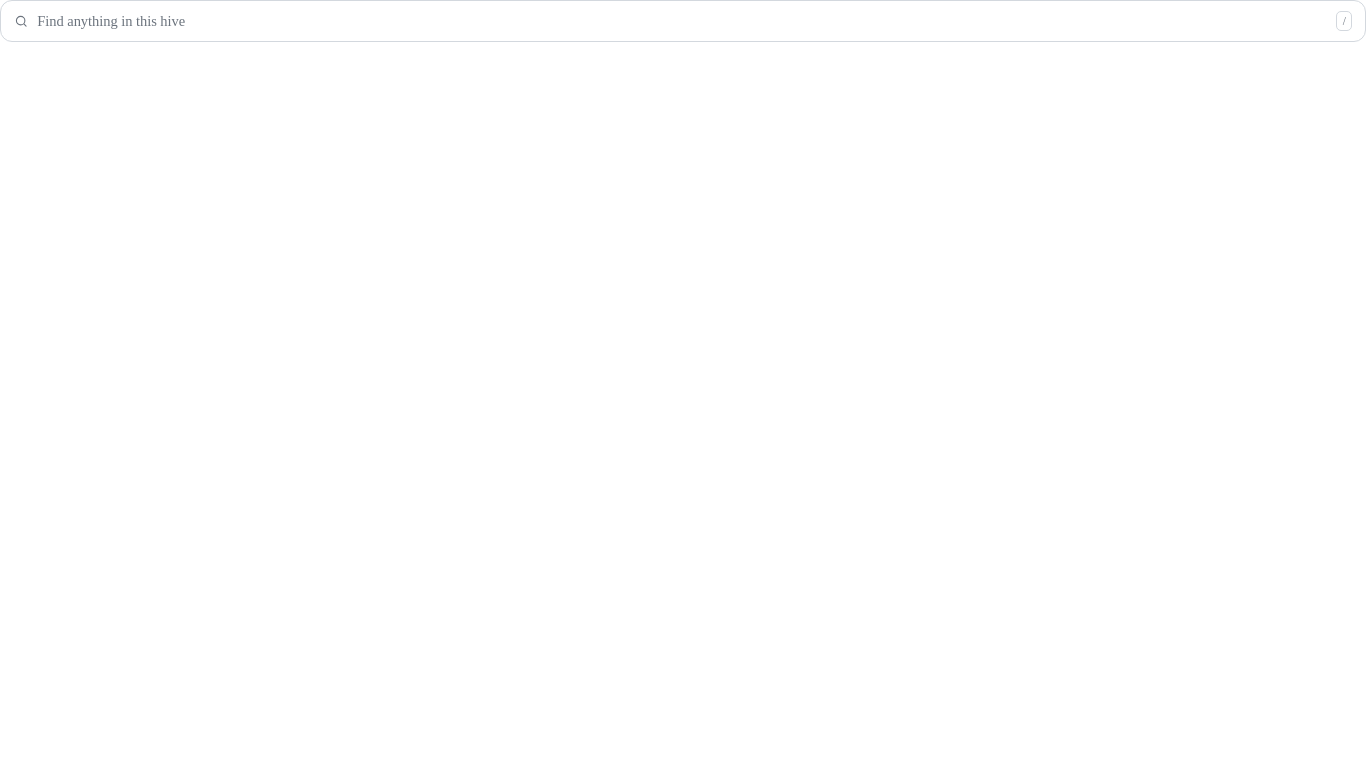
Test case: HiveOmni (find only) › asks on Enter for a typed query when no result is highlighted
This screenshot has width=1366, height=768.
Type "Where is page 2?" into the dropdown.
click(682, 21); type("Where is page 2?")  # box [37, 1, 1327, 41]
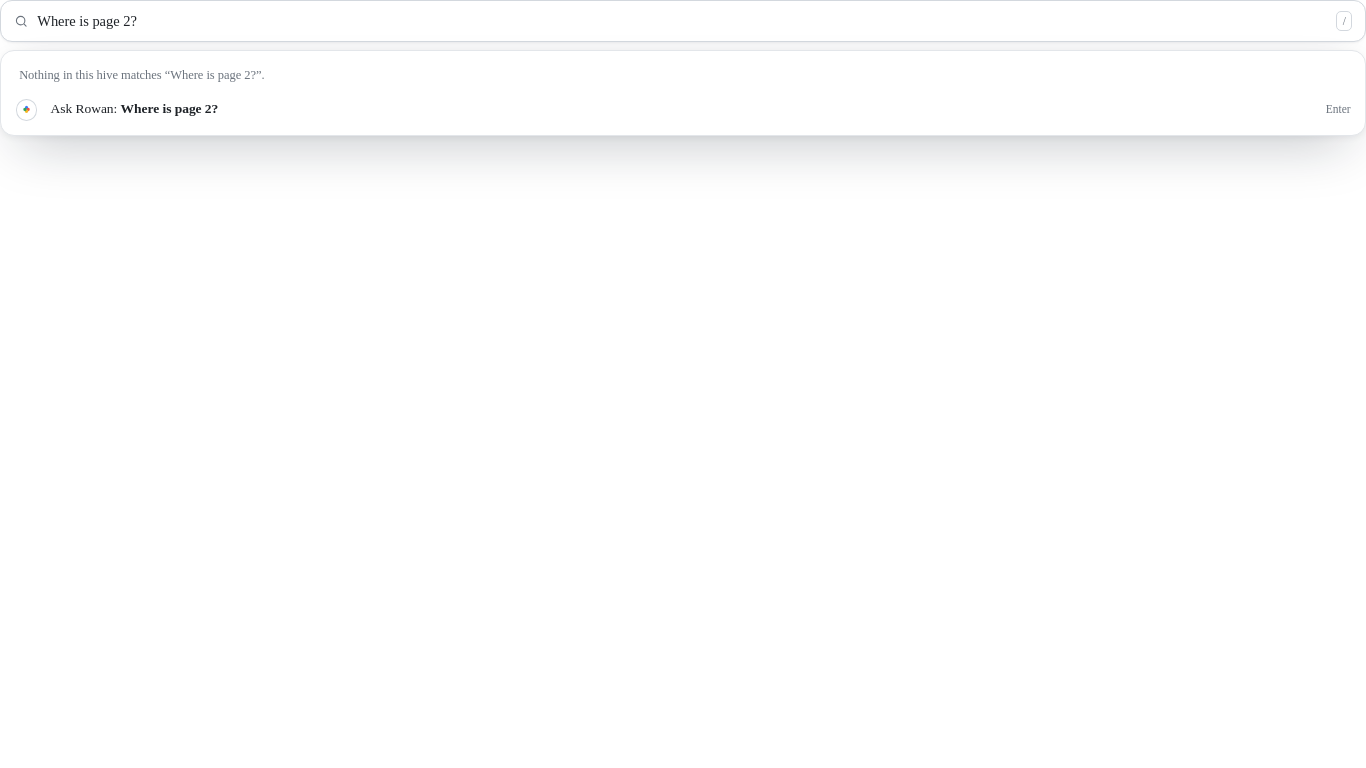
Press Enter in the dropdown, box [37, 1, 1327, 41]
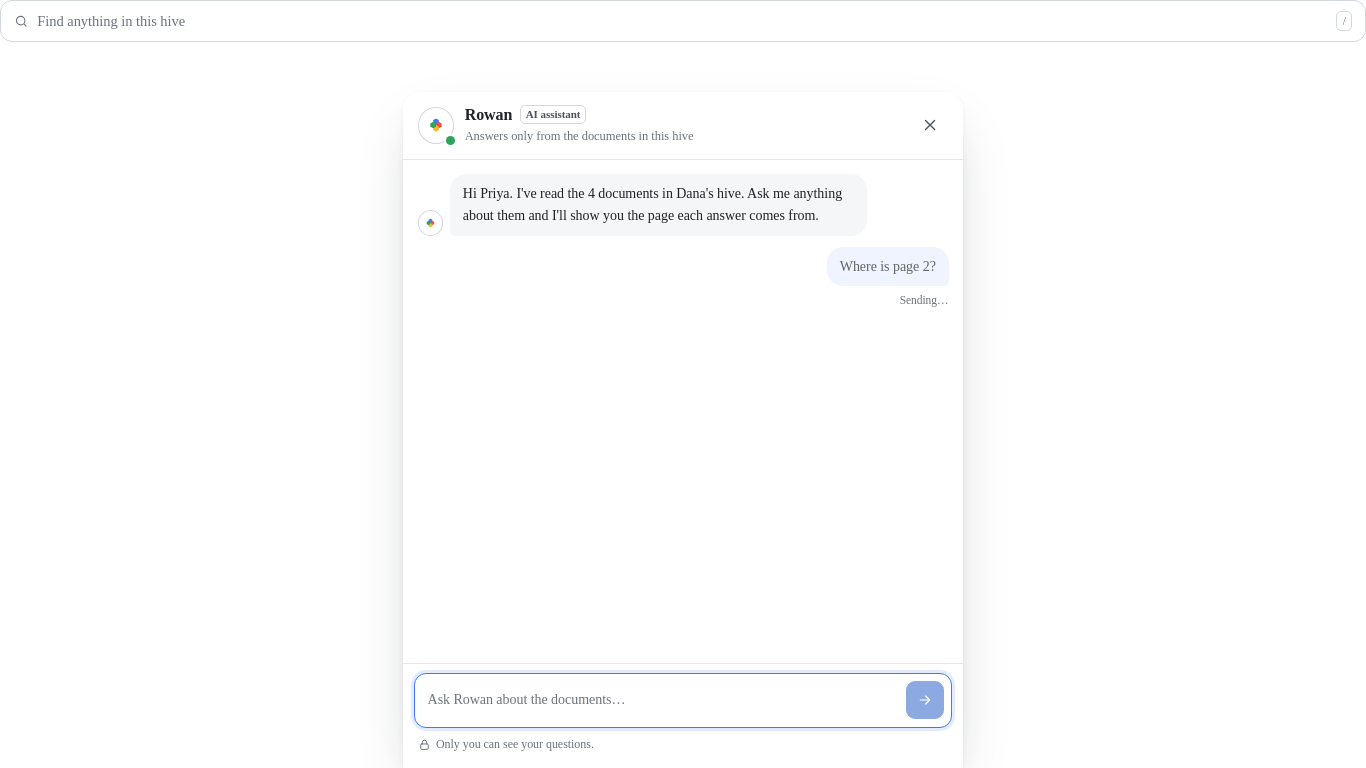
Now the text "Where is page 2?" is shown, box [827, 247, 948, 286]
Now the dialog is shown, box [403, 92, 963, 767]
